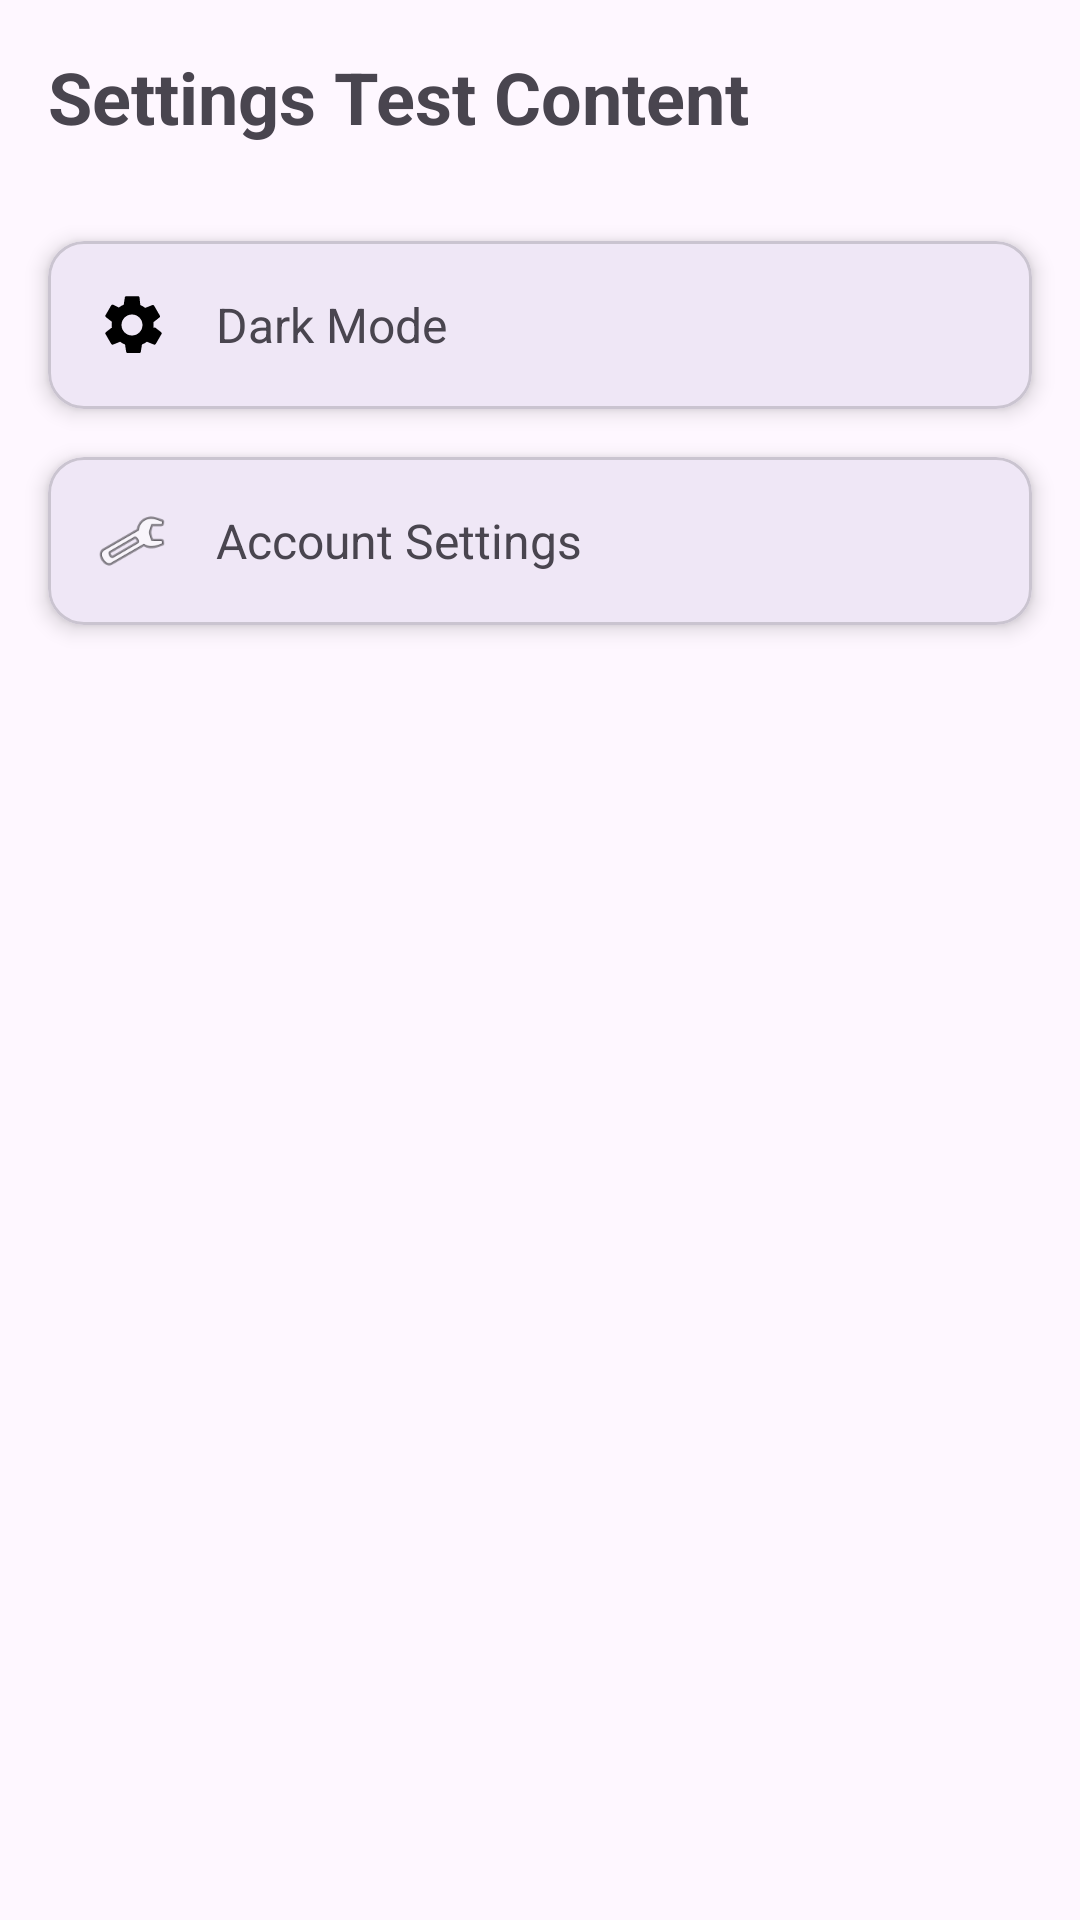

Named icons in this screenshot (1080px×1920px) and their centers, (x,y):
manage: (131,541)
